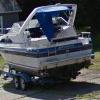Boat: (0, 5, 91, 85)
